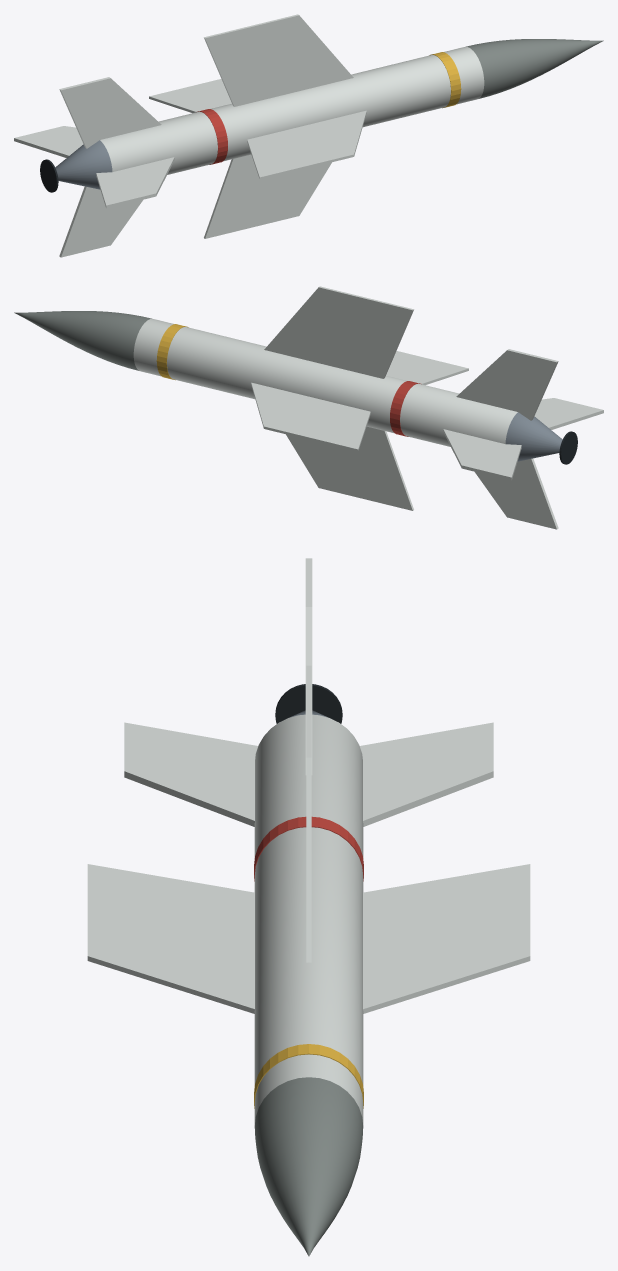
File: kh32_family.glb
3 renders of one model, top to bottom at view 1: azimuth 30°, elevation 25°; view 2: azimuth 150°, elevation 25°; view 3: azimuth 270°, elevation 25°, orthographic. The views are drawn at different scales.
Parts seen in each view (by area): view 1: kh32_family; view 2: kh32_family; view 3: kh32_family.
Boxes of the visible parts, box(x1,y1,x2,y2) form: kh32_family: box(14, 14, 603, 257); kh32_family: box(14, 286, 603, 529); kh32_family: box(87, 558, 530, 1256).
Size of the model in its own units: 10 by 3.45 by 3.45.
